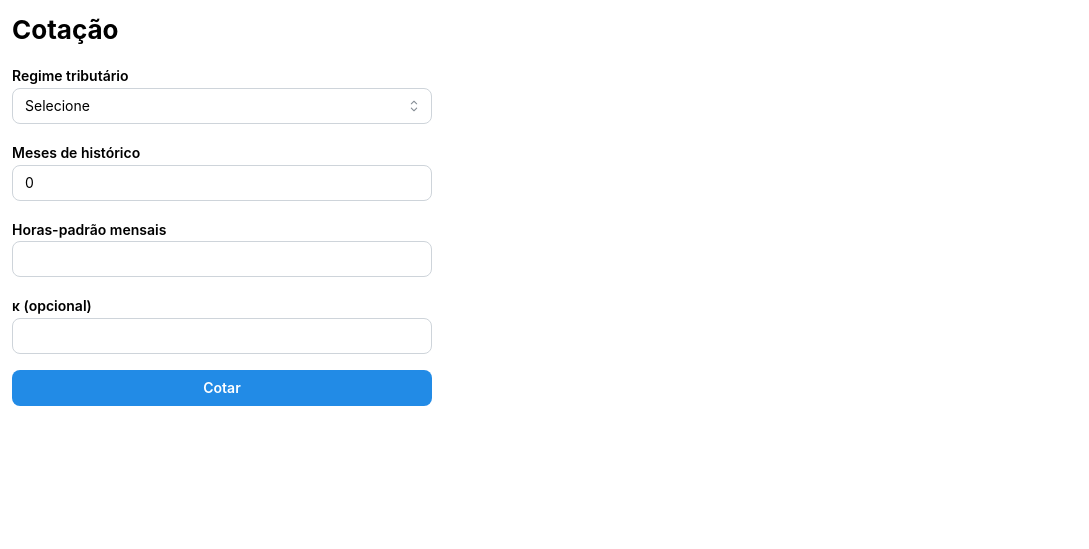
Test case: cotação › envia κ quando informado
The image size is (1089, 549).
Select "Simples Nacional" in the dropdown labelled "Regime tributário": [222, 106] box [12,88,432,124]
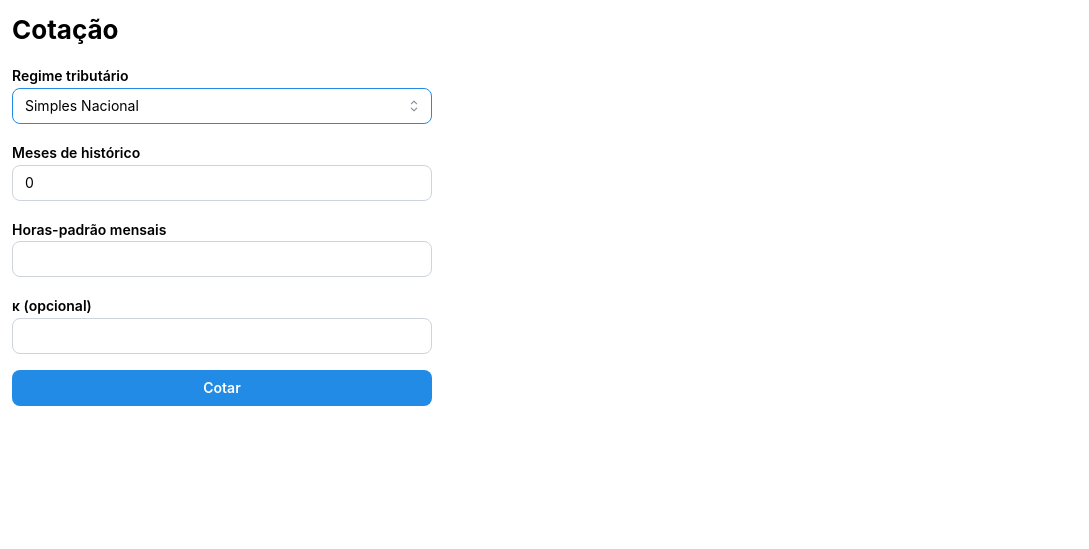
In the field labelled "κ (opcional)": [222, 336] box [12,318,432,354], type "1.1"
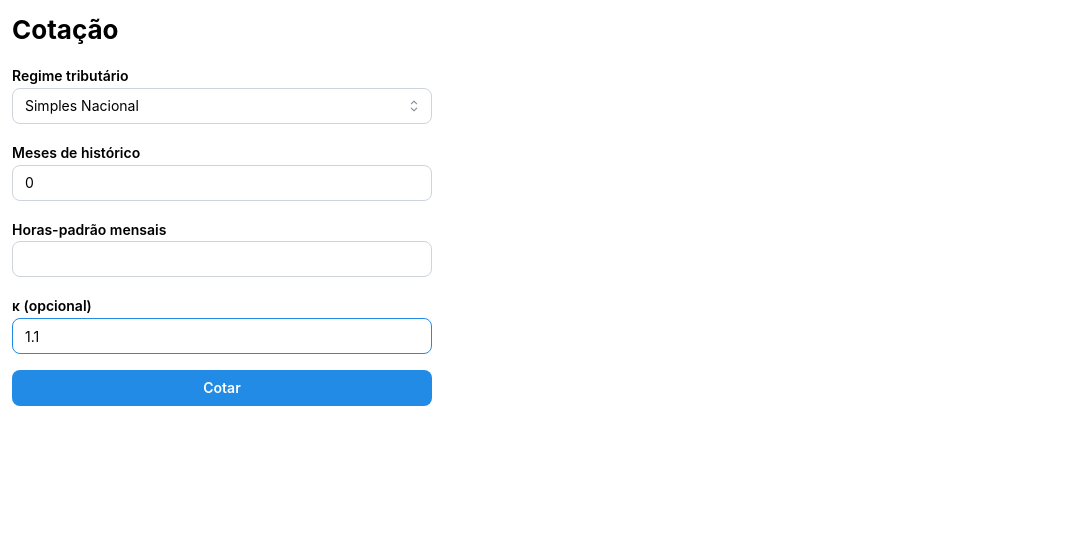
Click the button "Cotar": [222, 388] box [12,370,432,406]
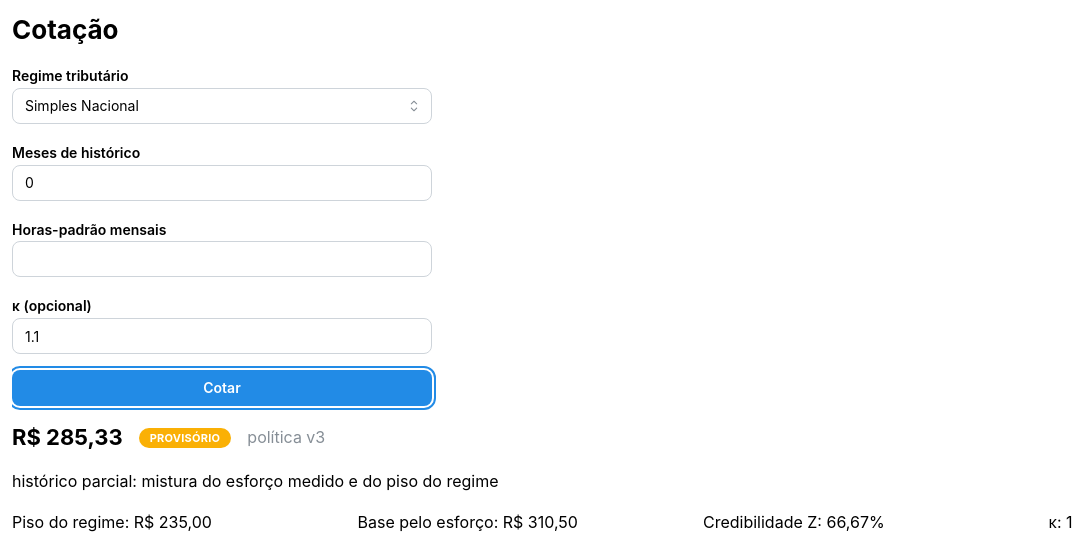
expect the element with test id "cotacao" is shown: met, box [12,424,1072,532]
